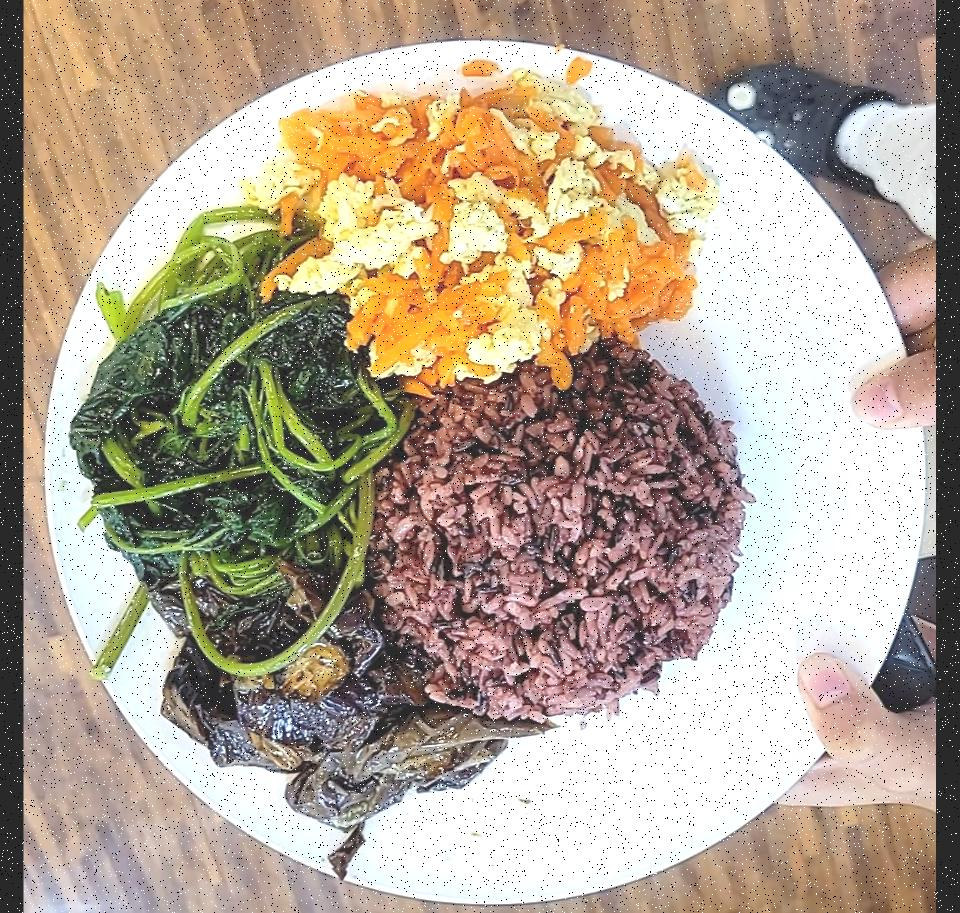big fried chicken leg: (33, 17, 924, 913)
braised fish: (368, 339, 740, 720)
braised fish fillet: (69, 203, 381, 662), (260, 69, 702, 379), (148, 618, 549, 826)
